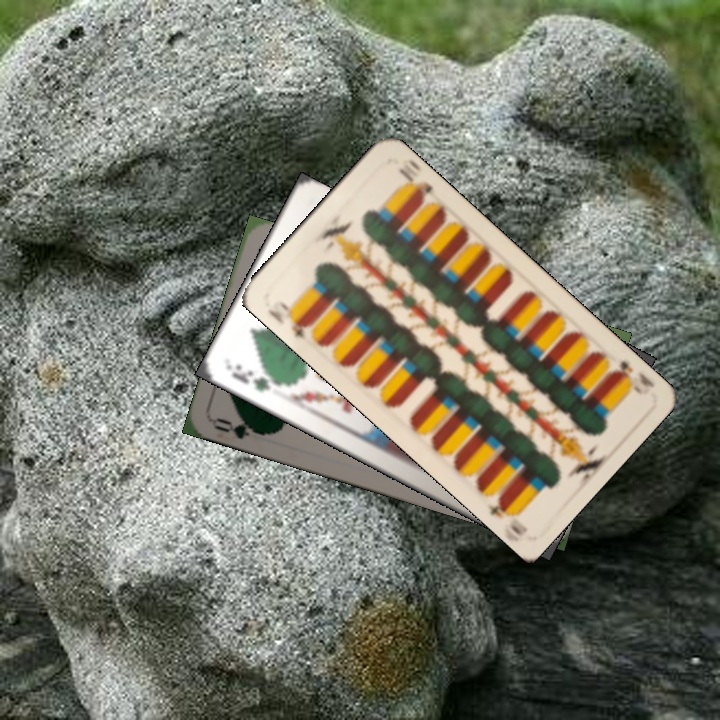E10: (605, 356, 657, 398), (275, 297, 315, 341)
GK: (226, 360, 284, 395)
GO: (209, 413, 269, 442)
